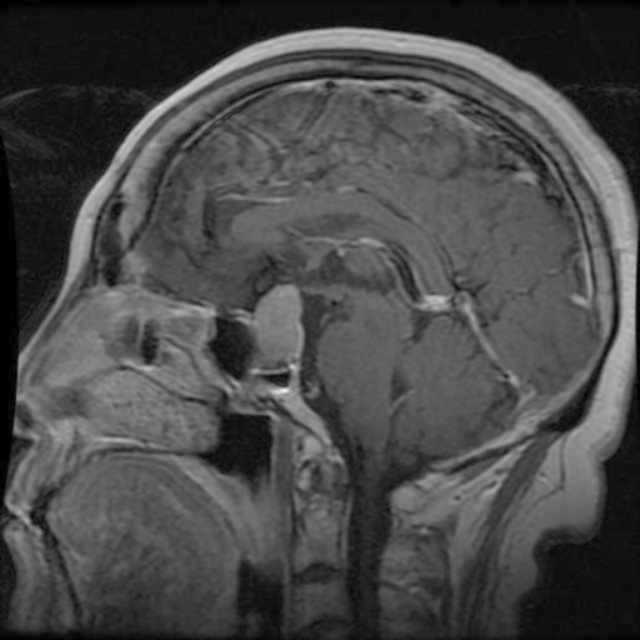no tumor: (246, 286, 316, 372)
